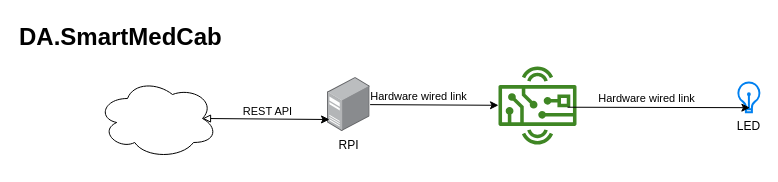
This 778x182 diagram has some shape labels left out. The centre of each missing label's shape, as x and y in pixels:
ARB: (537,105)
DWD: (157,118)
